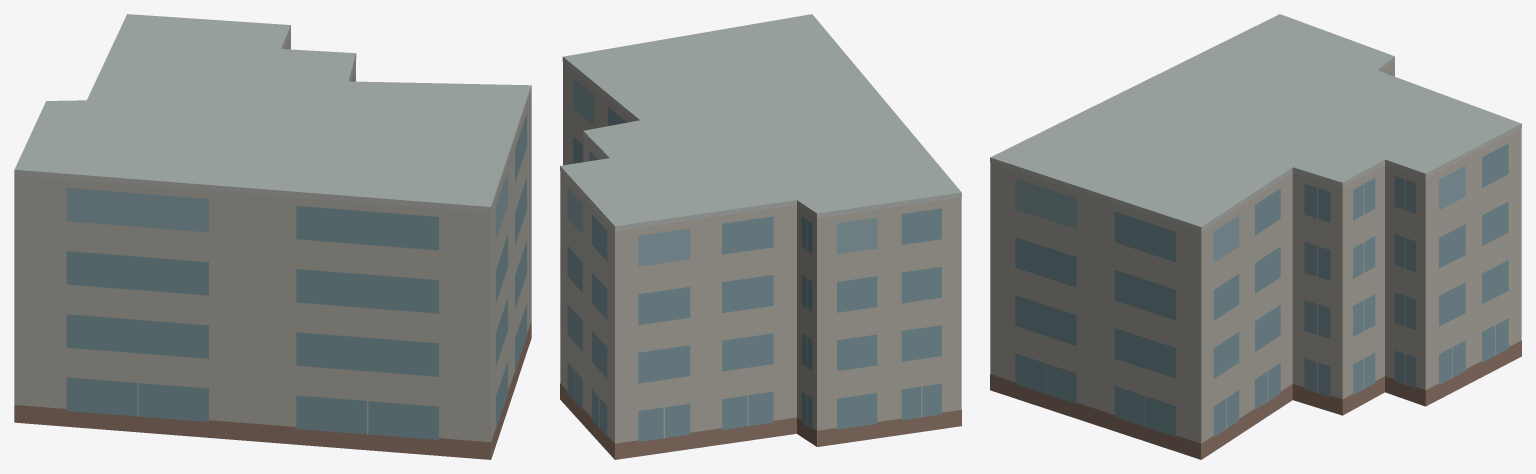
Rendered from survey-upis-32819568.glb.
3 renders of one model, left to right at view 1: azimuth 30°, elevation 25°; view 2: azimuth 150°, elevation 25°; view 3: azimuth 270°, elevation 25°, orthographic. The views are drawn at different scales.
Parts seen in each view (by area): view 1: survey-upis-32819568.tmp; view 2: survey-upis-32819568.tmp; view 3: survey-upis-32819568.tmp.
Part boxes in pixels (left/top/right/bottom): survey-upis-32819568.tmp: left=14, top=14, right=531, bottom=459; survey-upis-32819568.tmp: left=560, top=14, right=961, bottom=459; survey-upis-32819568.tmp: left=990, top=14, right=1521, bottom=459.
Bounding box in the file's own units: 22.19 × 11.3 × 23.4.
